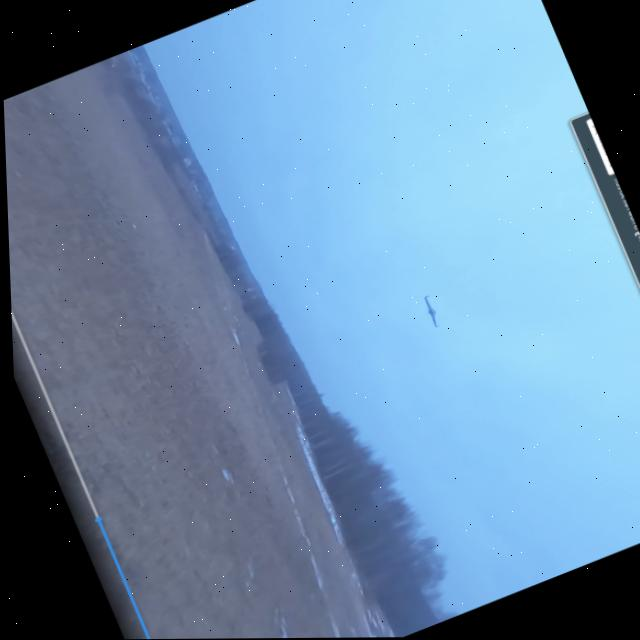planedrone: (417, 292, 446, 331)
